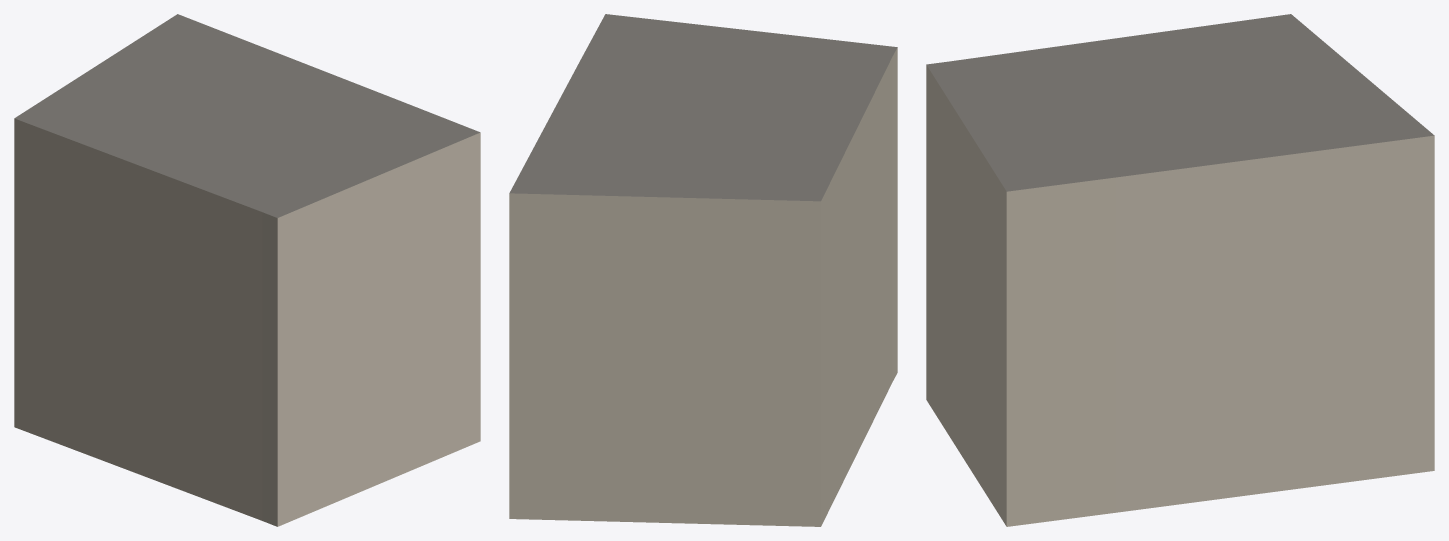
3 views of the same model, side by side, from view 1: azimuth 30°, elevation 25°; view 2: azimuth 150°, elevation 25°; view 3: azimuth 270°, elevation 25° (orthographic). The views are drawn at different scales.
Visible parts, largest first — view 1: HP-w1197047251; view 2: HP-w1197047251; view 3: HP-w1197047251.
Part boxes in pixels (<box>): HP-w1197047251: <box>14,14,480,526</box>; HP-w1197047251: <box>509,14,897,526</box>; HP-w1197047251: <box>926,14,1434,526</box>.
Size of the model in its own units: 20.46 by 18 by 24.74.
